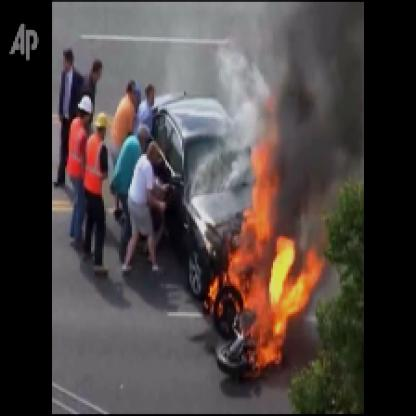Fire: (210, 132, 310, 392)
Smoke: (271, 2, 359, 226)
